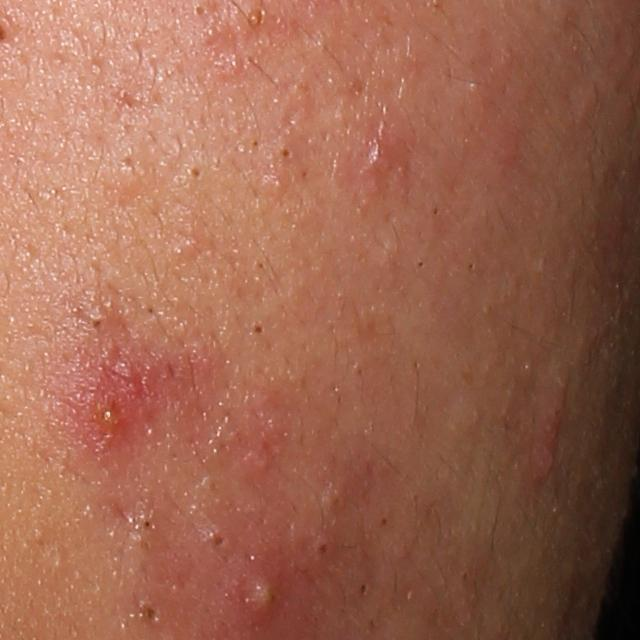comedo: (135, 513, 163, 543), (275, 136, 299, 170), (204, 530, 229, 558), (181, 160, 205, 187), (307, 538, 331, 565), (86, 312, 106, 343), (352, 580, 371, 607), (138, 603, 158, 628), (190, 0, 212, 21), (247, 318, 264, 345), (249, 7, 265, 32), (253, 257, 273, 274)
papule: (80, 370, 153, 454), (526, 404, 566, 484), (355, 133, 395, 182)
pustule: (240, 567, 279, 620)
